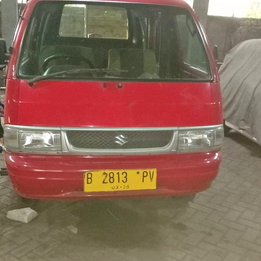plate: (82, 169, 159, 189)
